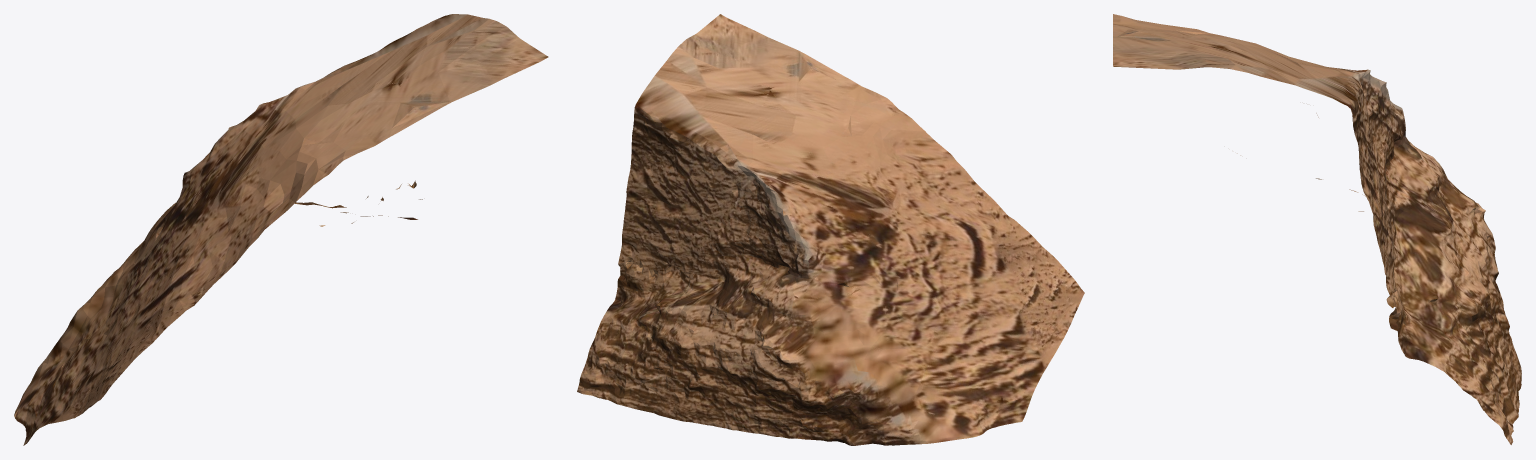
3 renders of one model, left to right at view 1: azimuth 30°, elevation 25°; view 2: azimuth 150°, elevation 25°; view 3: azimuth 270°, elevation 25°, orthographic. The views are drawn at different scales.
Size of the model in its own units: 2.09 by 1.5 by 1.46.
Materials: 2 (2 with a texture image).
